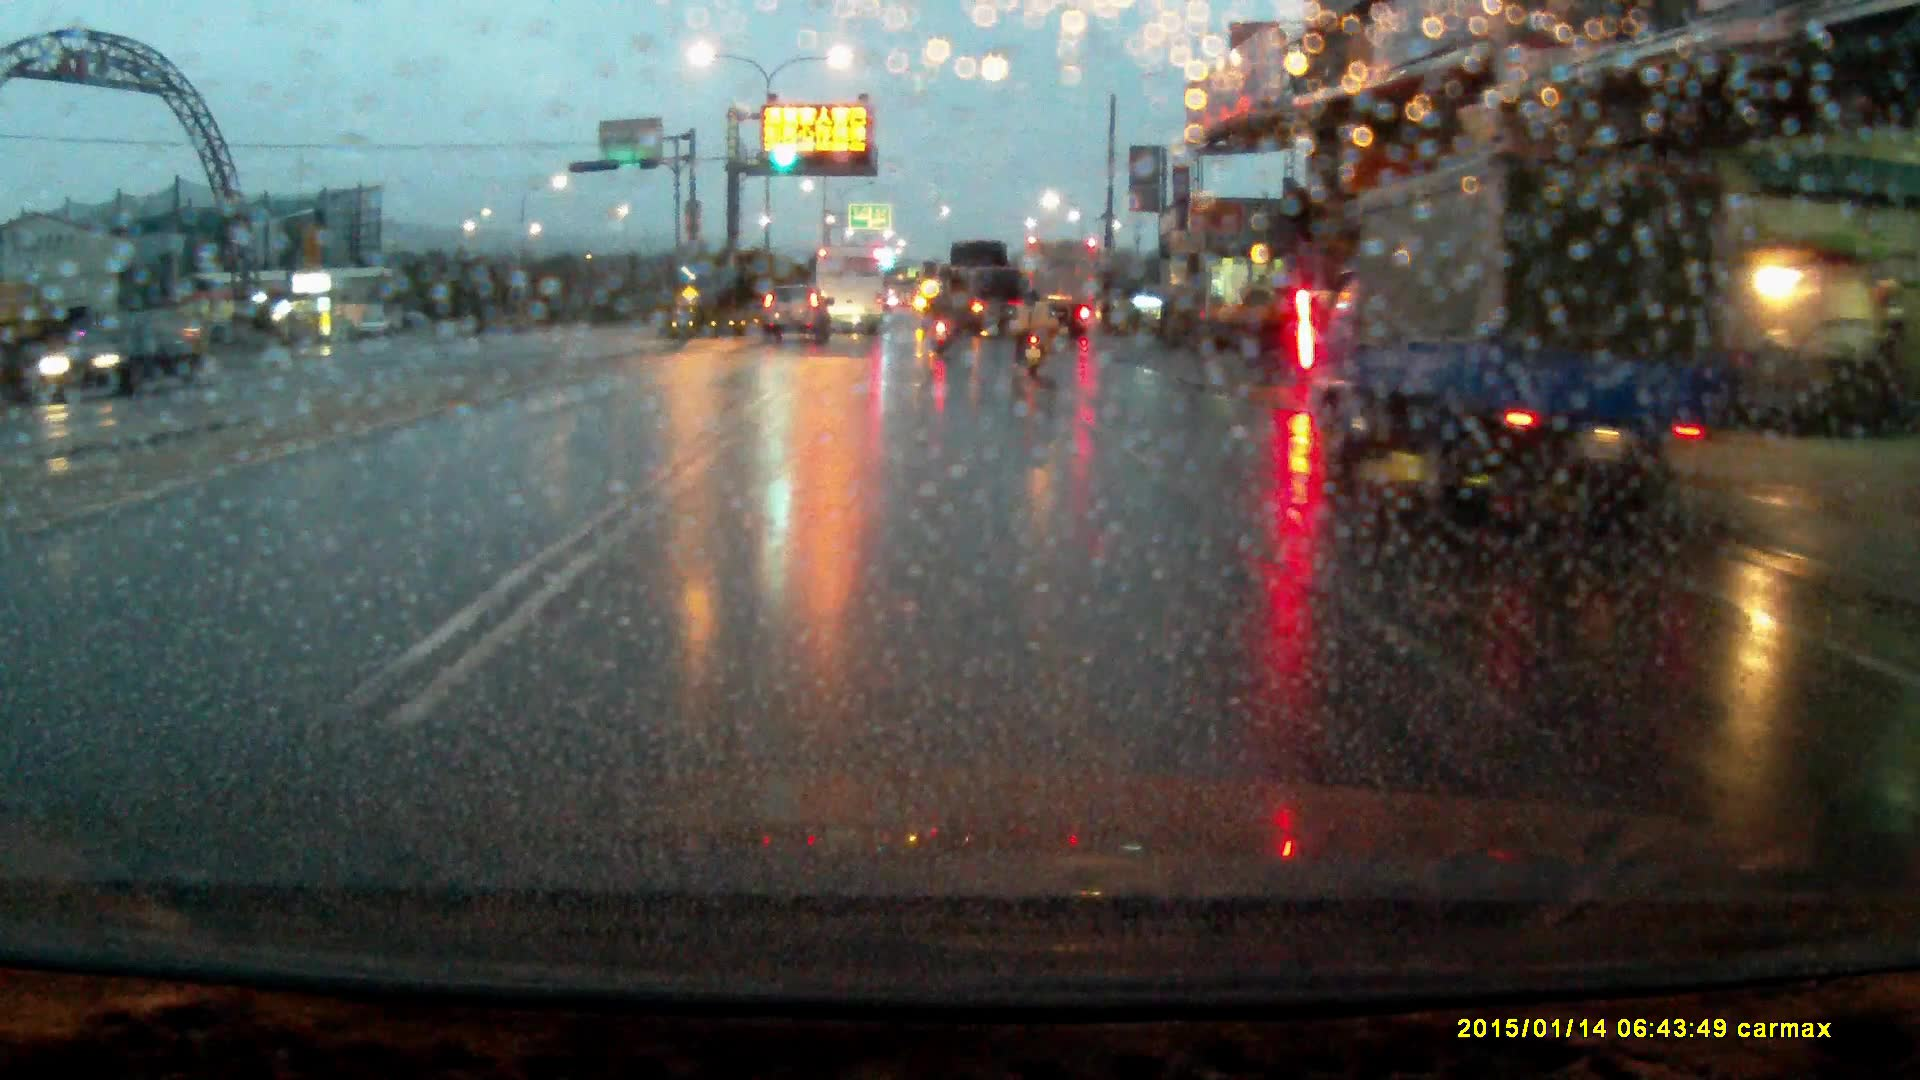rider: (1011, 280, 1050, 375), (929, 284, 955, 355)
vehicle: (1298, 146, 1744, 515), (35, 323, 201, 402), (940, 240, 1023, 341), (1025, 236, 1101, 329), (813, 245, 887, 331), (762, 283, 829, 341)
